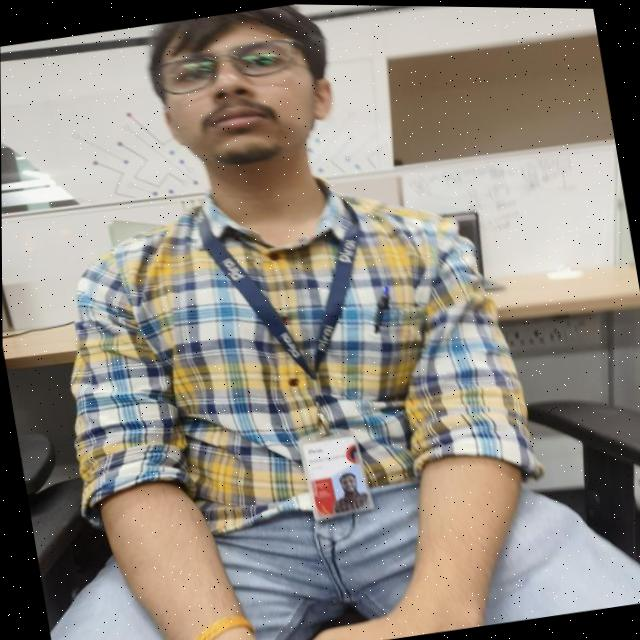id_card: (179, 172, 436, 544)
